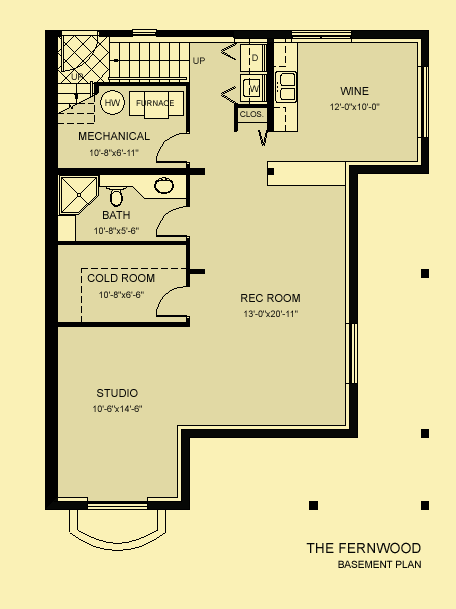bathroom has small and large sink with shower space: (46, 165, 189, 252)
laundry room has washer and dryer: (192, 32, 271, 133)
there are stairs in the open area: (51, 27, 196, 172)
